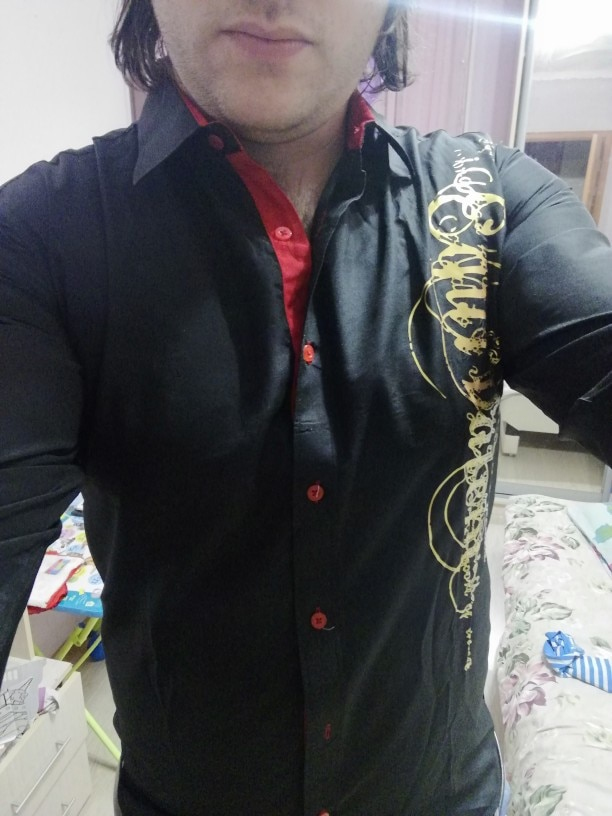shirts: (16, 76, 612, 807)
